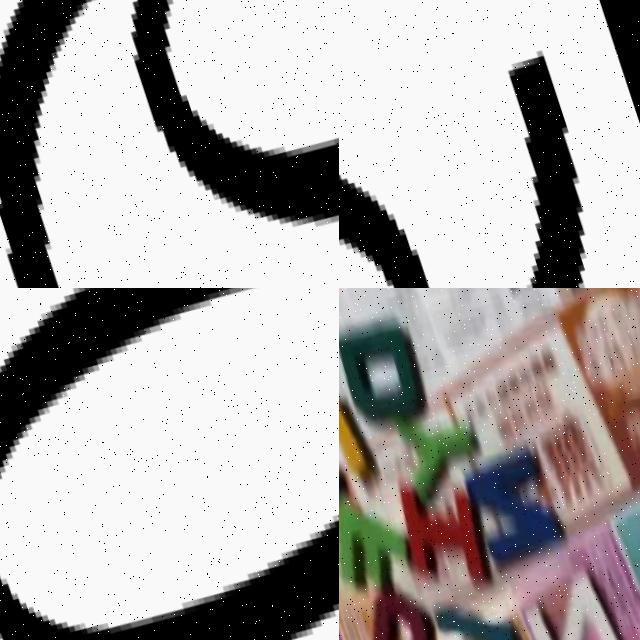0: (0, 288, 339, 640)
6: (0, 0, 339, 288)
9: (339, 4, 640, 288)
D: (339, 299, 433, 427)
F: (339, 476, 420, 608)
I: (388, 456, 493, 590)
L: (339, 371, 379, 504)
N: (453, 424, 574, 572)
U: (347, 578, 452, 640)
V: (422, 569, 536, 640)
Y: (391, 390, 493, 497)
Z: (517, 555, 638, 640)
